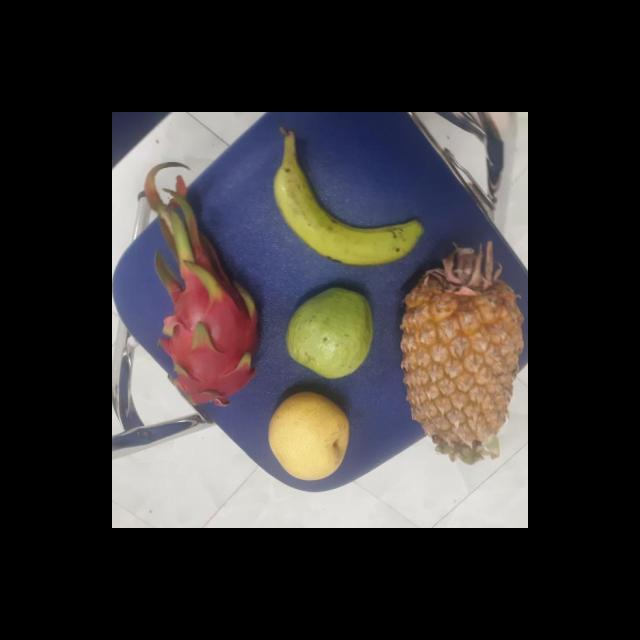banana: (270, 148, 416, 266)
guava: (280, 286, 376, 381)
pear: (264, 392, 352, 480)
pineapple: (398, 248, 522, 458)
pitaya: (159, 275, 261, 407)
